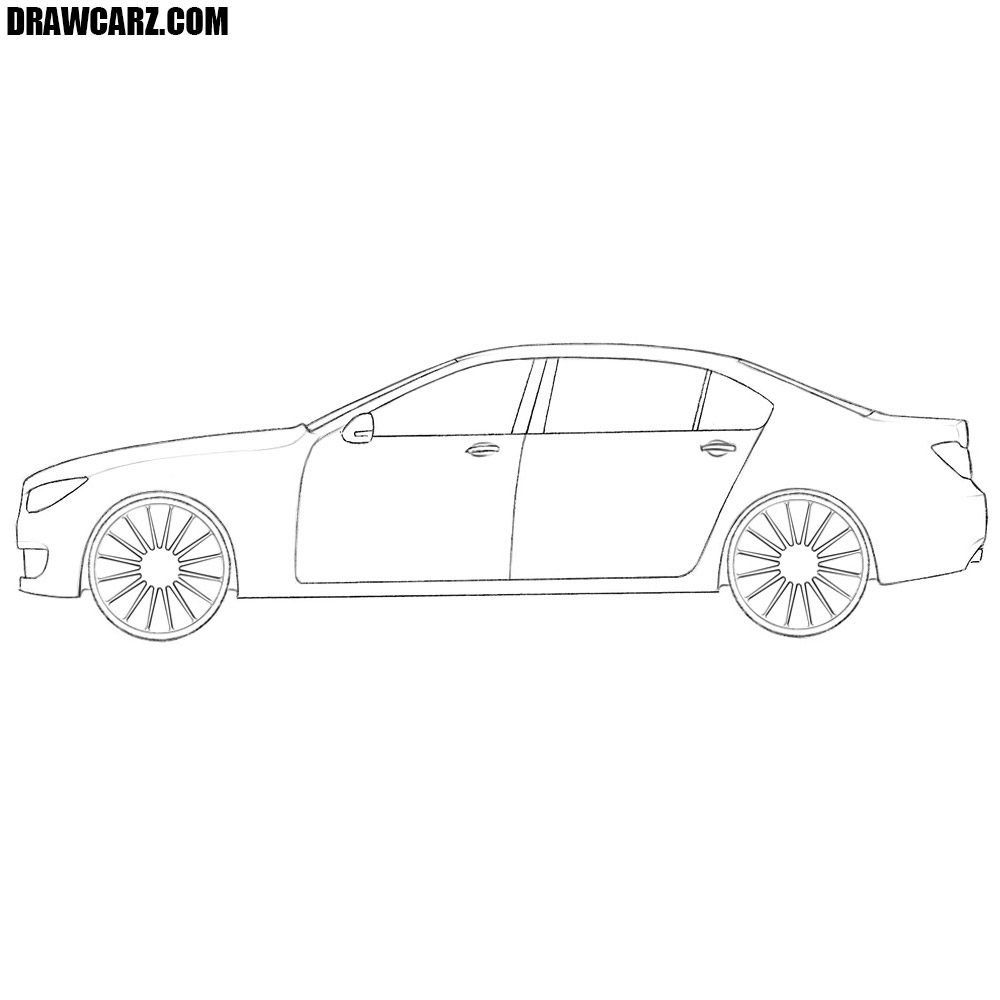car: (17, 326, 999, 674)
